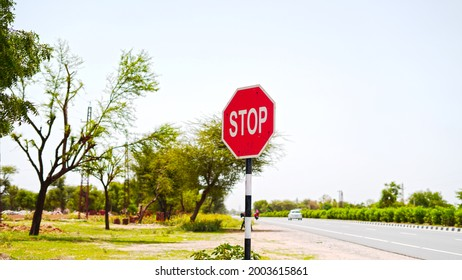stop: (219, 84, 274, 159)
